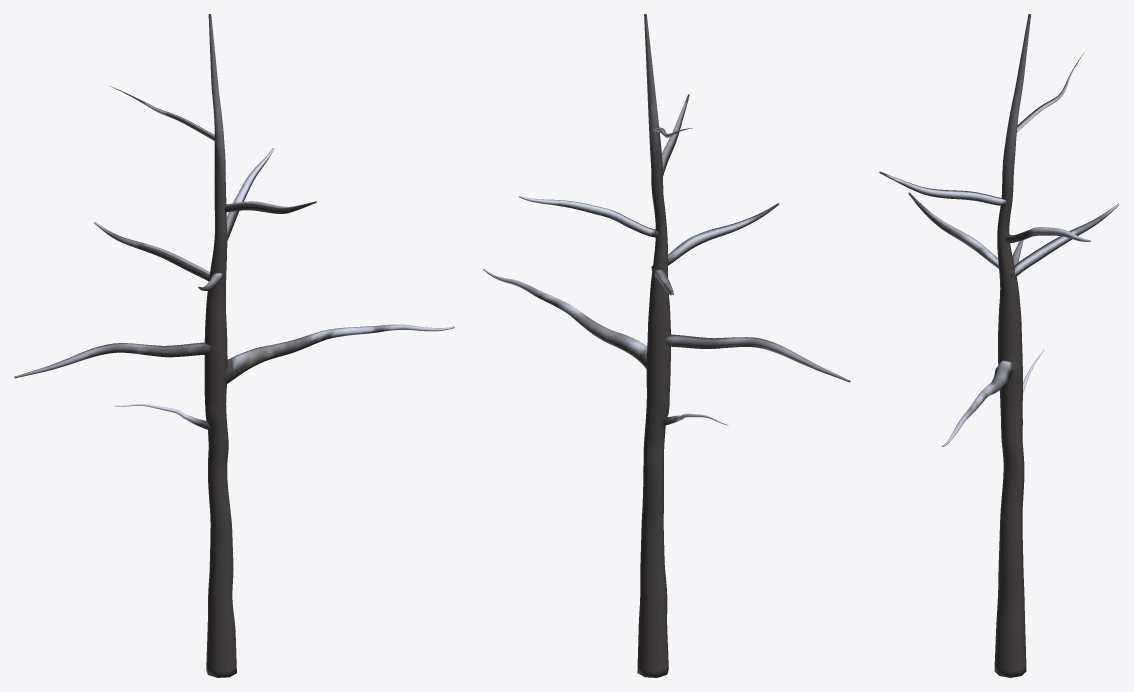
3 views of the same model, side by side, from view 1: azimuth 30°, elevation 25°; view 2: azimuth 150°, elevation 25°; view 3: azimuth 270°, elevation 25° (orthographic). The views are drawn at different scales.
Visible parts, largest first — view 1: Tube_8; view 2: Tube_8; view 3: Tube_8.
Boxes of the visible parts, x1,y1,x2,y2 form: Tube_8: (14, 14, 454, 677); Tube_8: (483, 14, 850, 677); Tube_8: (879, 14, 1119, 677).
Size of the model in its own units: 3.33 by 5.18 by 1.72.
1 material, 1 textured.
